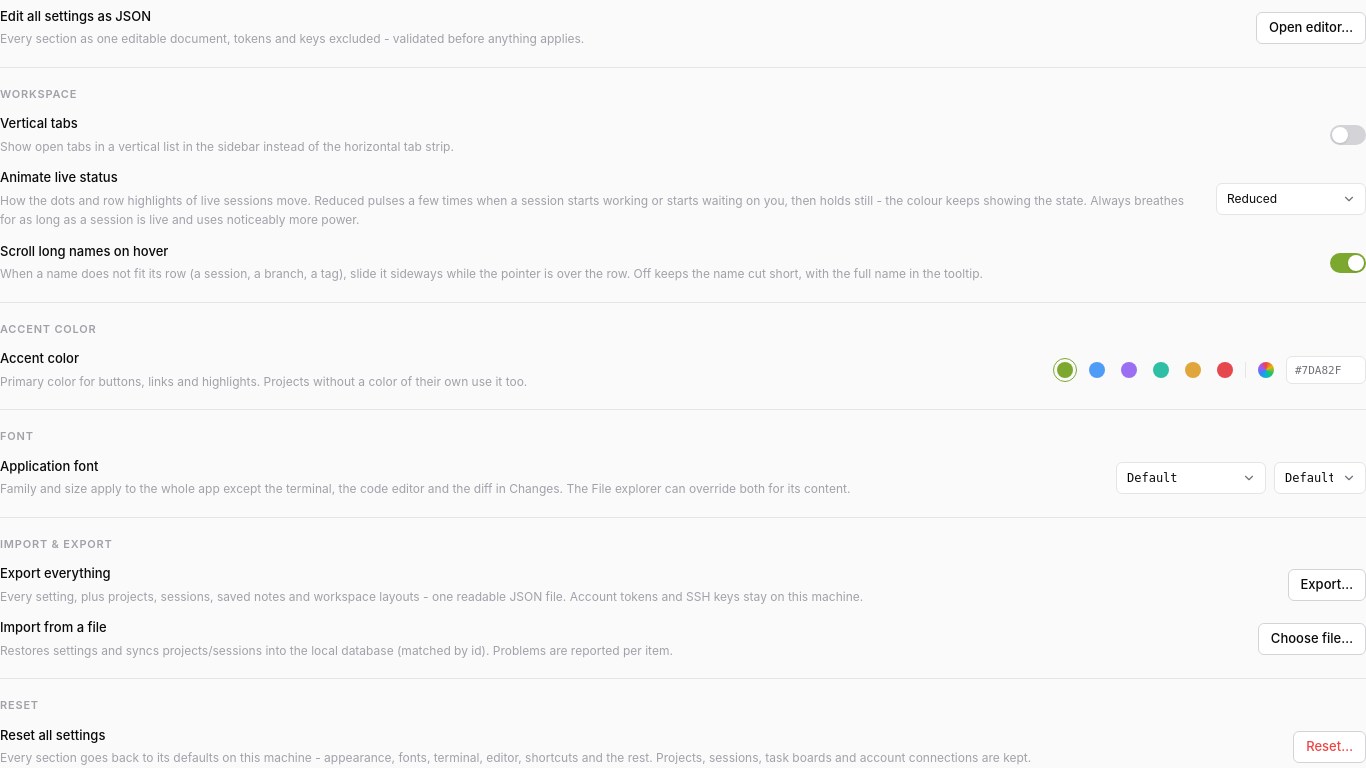
Scenario: GeneralSettingsSection - reset › asks before resetting and resets only on the destructive action
(page scrolled)
Check: the text "Reset all settings" is shown, box [0,726,105,742]
Step 1. Click the button "Reset…" → click(1330, 746), box [1293,730,1365,762]
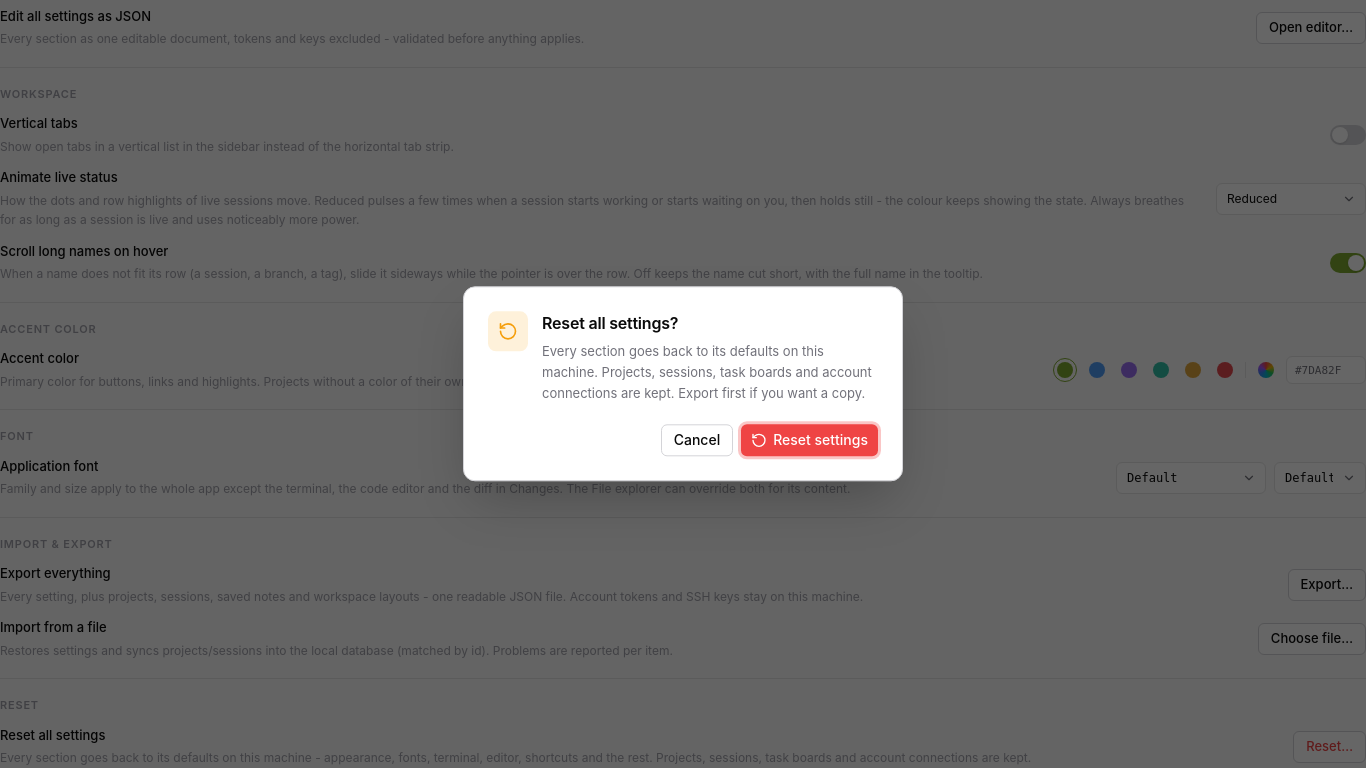
Check: the heading "Reset all settings?" is shown, box [542,313,678,333]
Step 2. Click the button "Cancel" → click(697, 441), box [661,425,733,457]
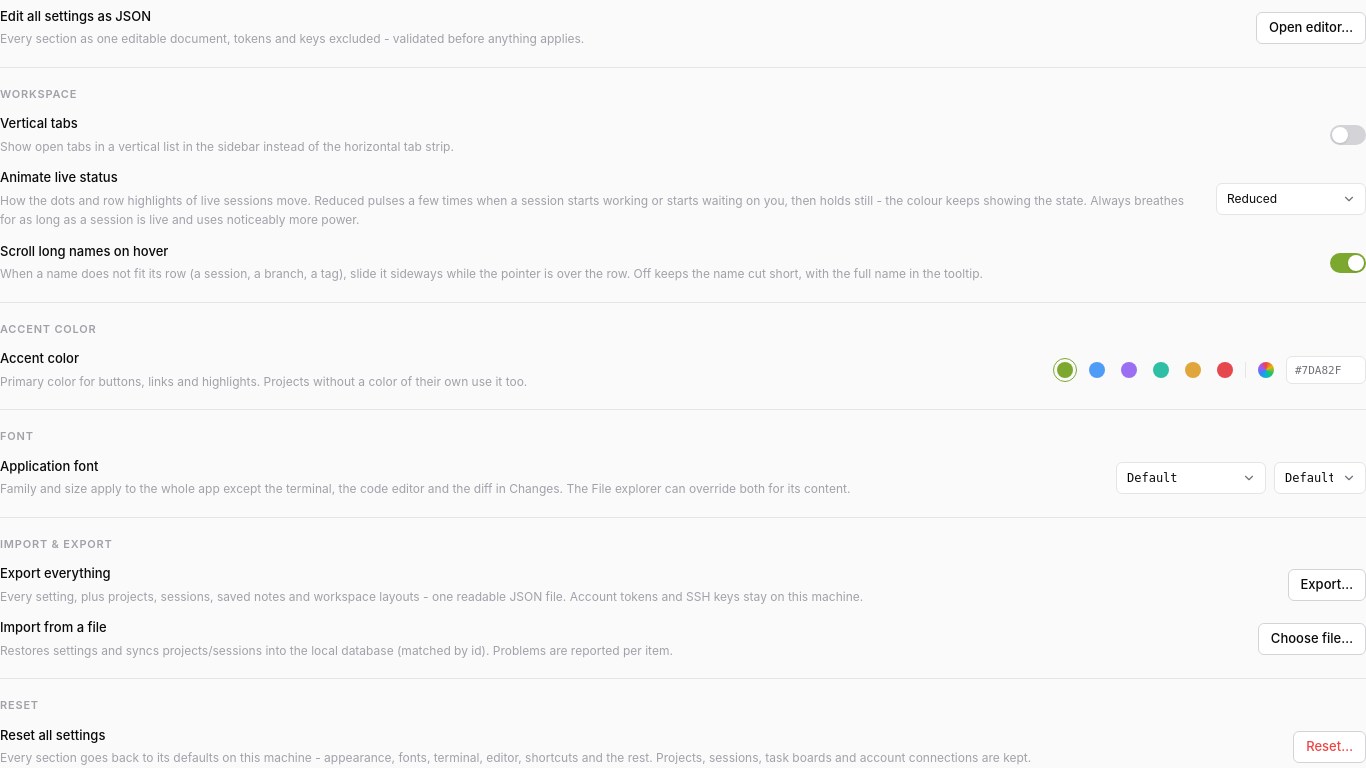
Check: the dialog is gone
Step 3. Click the button "Reset…" → click(1330, 746), box [1293,730,1365,762]
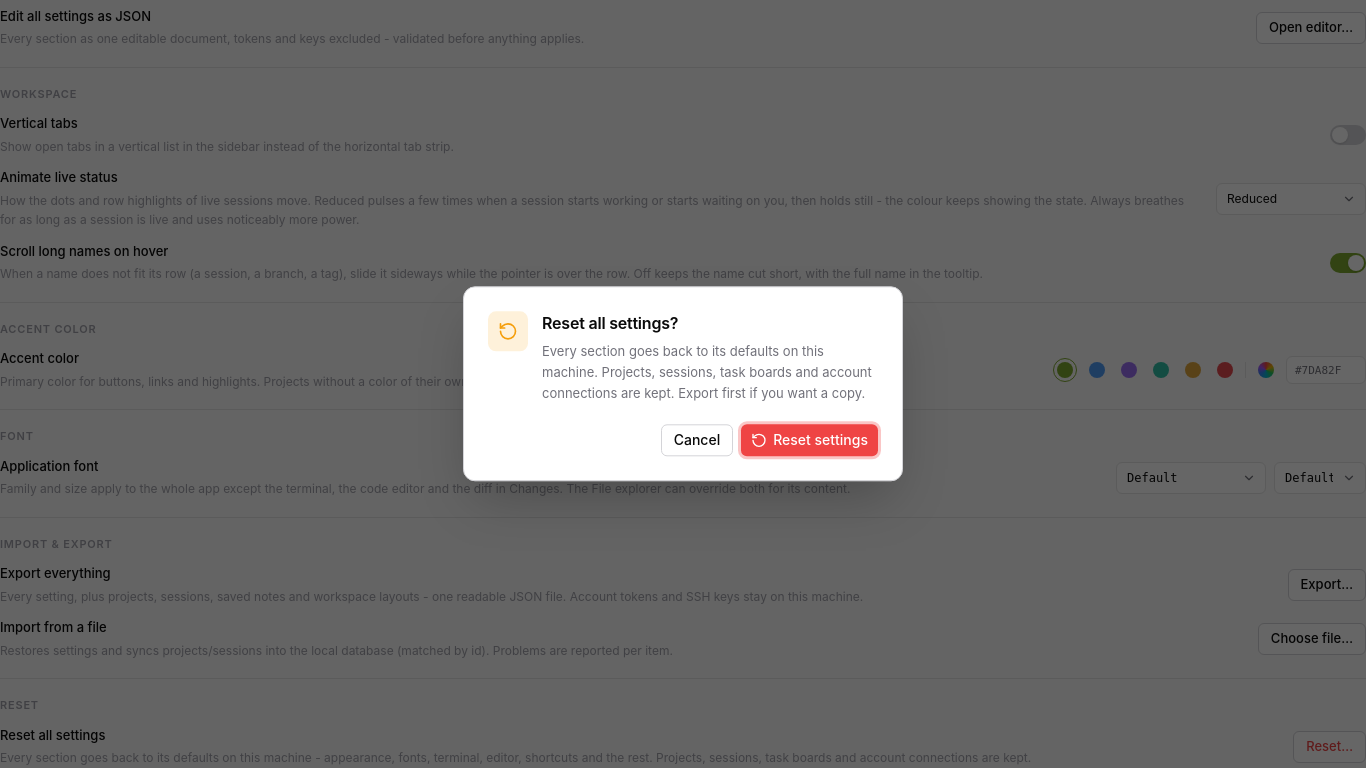
Step 4. Click the button "Reset settings" → click(810, 441), box [741,425,878,457]
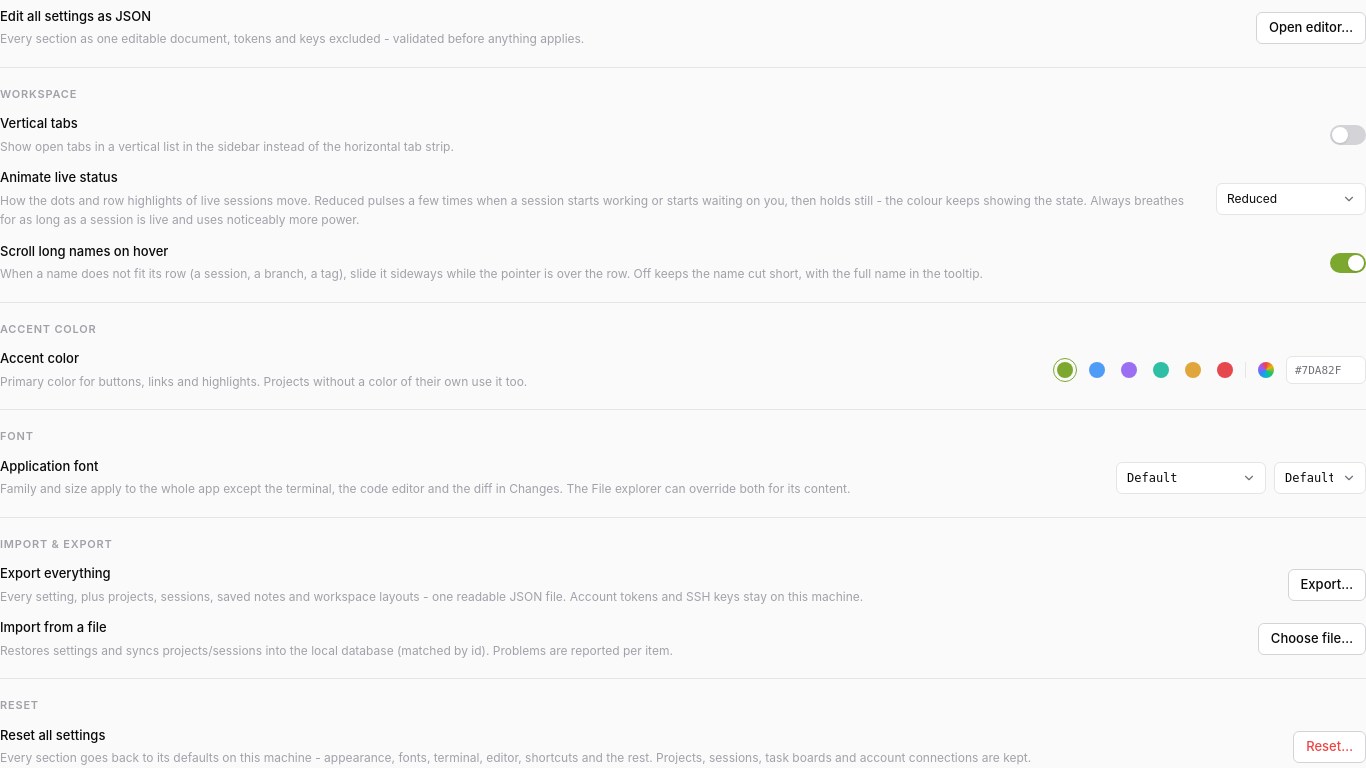
Check: the dialog is gone
